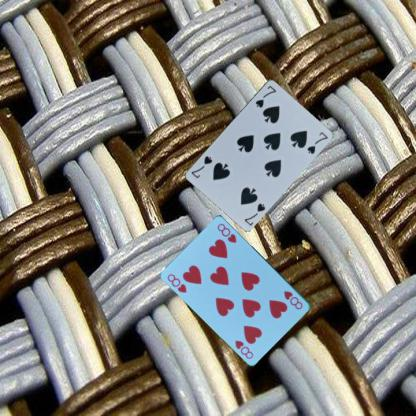7s: (242, 200, 266, 227), (253, 82, 277, 108)
8h: (165, 271, 188, 295), (281, 288, 304, 311)
